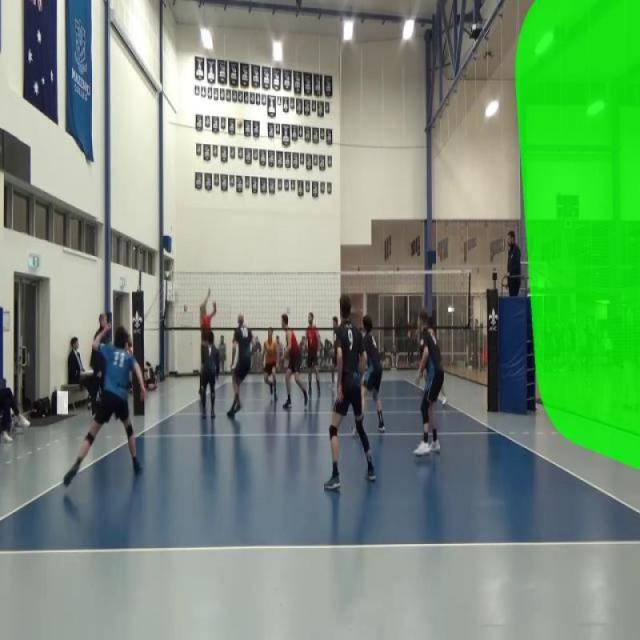volleyball: (236, 116, 244, 131)
